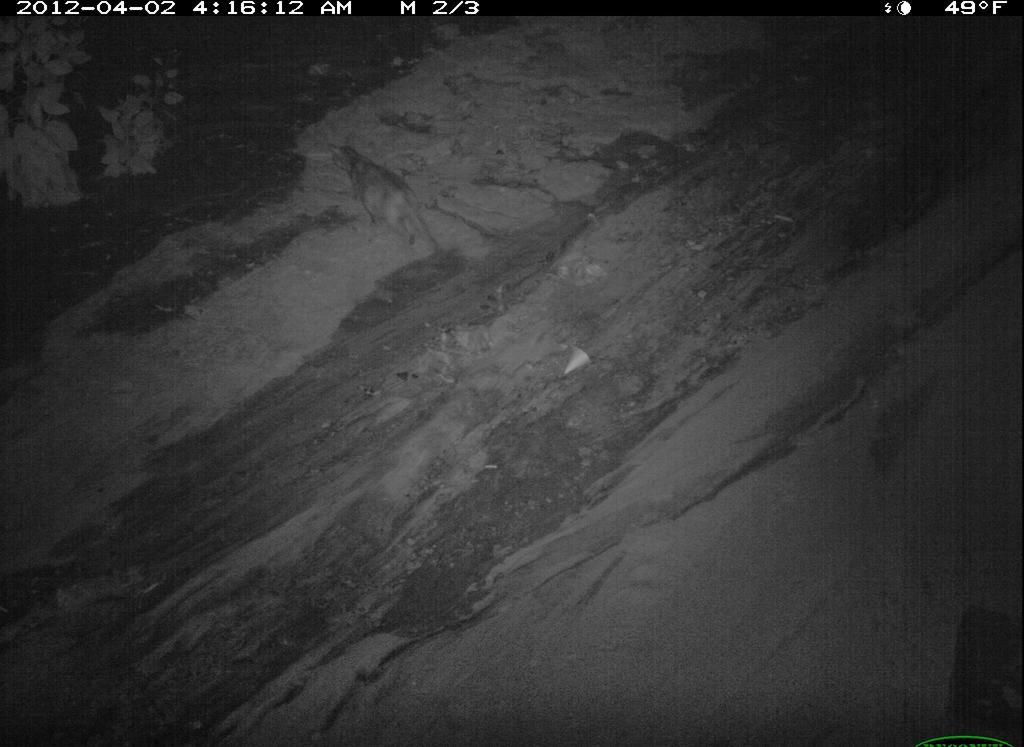cat: (653, 267, 897, 528)
